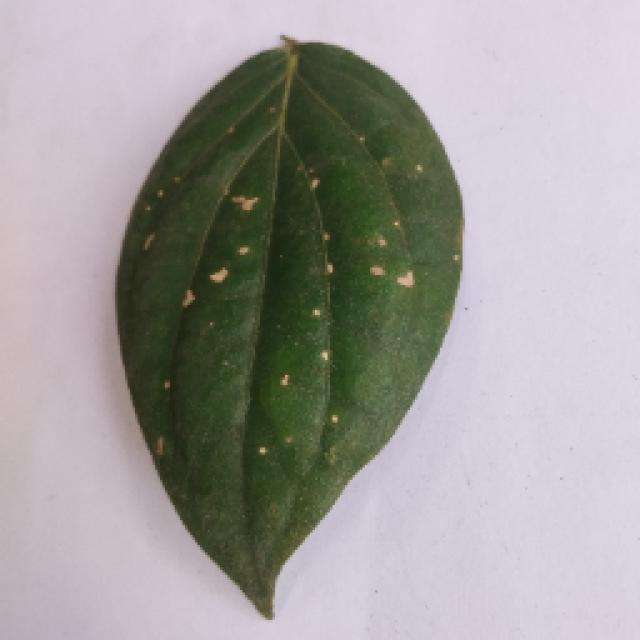pollu-disease: (100, 40, 478, 618)
